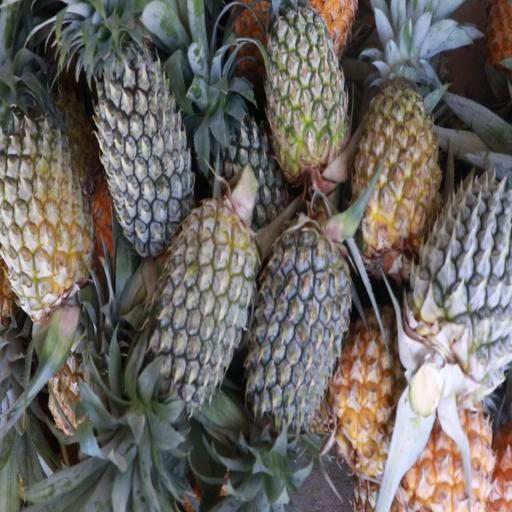------------------------------: (0, 117, 94, 304), (264, 0, 354, 179)
Pineapple - v8 v1: (354, 73, 444, 254), (337, 310, 422, 468), (407, 390, 494, 512)
